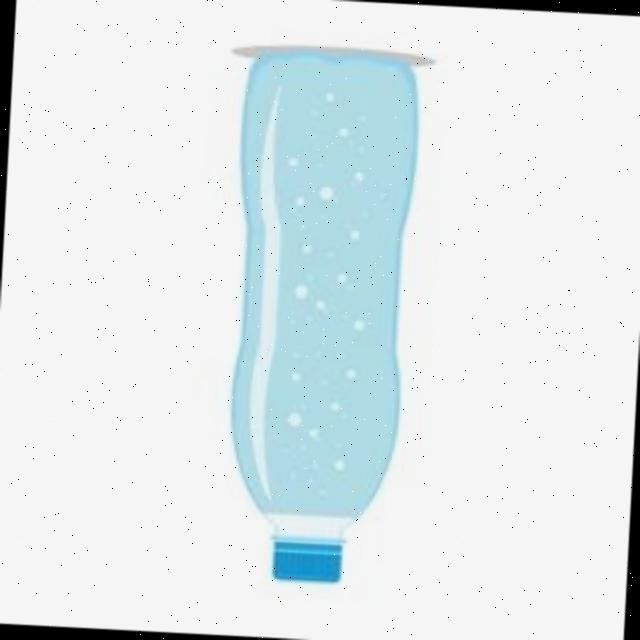bottle: (195, 27, 442, 606)
cap: (264, 532, 354, 594)
